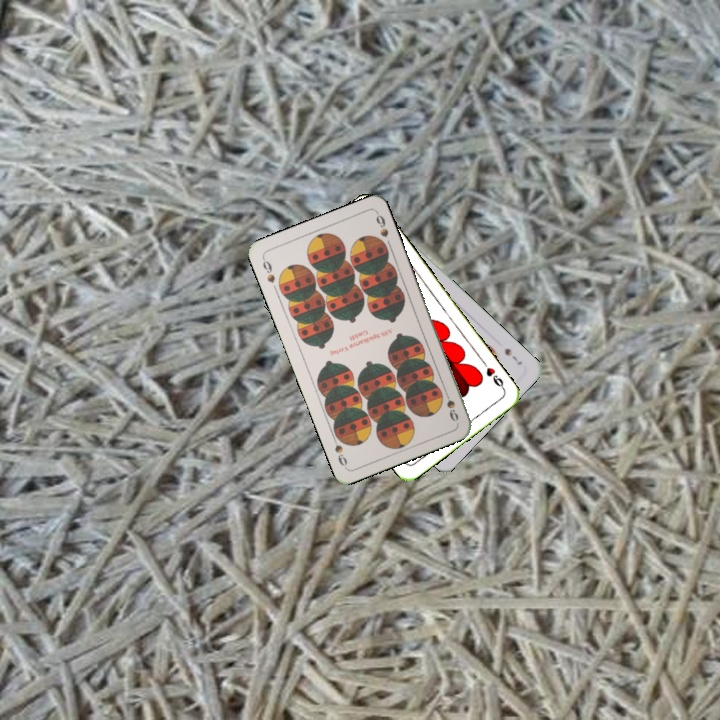H9: (479, 358, 507, 393)
S7: (501, 344, 525, 367)
S9: (440, 385, 461, 424), (258, 254, 278, 286)
